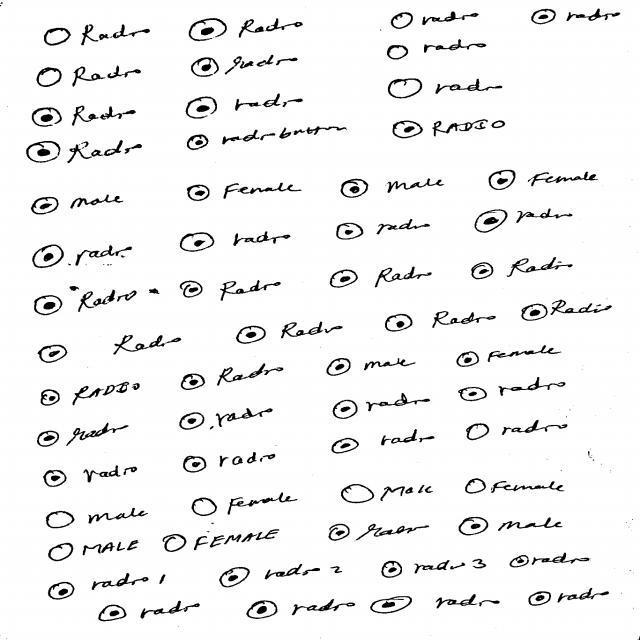radio: (187, 19, 231, 44), (32, 243, 69, 271), (33, 288, 69, 316), (25, 139, 63, 165), (370, 595, 415, 616), (217, 567, 256, 591), (473, 209, 511, 233), (43, 22, 76, 49), (31, 104, 68, 128), (186, 96, 223, 120), (36, 342, 74, 365), (96, 601, 131, 625), (46, 578, 80, 602), (388, 78, 425, 100), (383, 313, 419, 335), (177, 233, 216, 253), (234, 325, 271, 345), (458, 516, 493, 537), (245, 600, 281, 620), (34, 67, 66, 89), (330, 269, 365, 289), (334, 222, 367, 243), (30, 196, 64, 216), (341, 181, 376, 200), (341, 485, 376, 504), (191, 58, 224, 78), (330, 435, 363, 455), (48, 540, 78, 562), (46, 509, 78, 529), (161, 534, 193, 554), (489, 170, 519, 191), (333, 399, 363, 420), (191, 498, 222, 518), (459, 385, 493, 403), (392, 120, 424, 139), (178, 282, 206, 303), (521, 303, 550, 323), (44, 468, 73, 488), (327, 522, 353, 544), (179, 411, 207, 431), (389, 13, 420, 31), (327, 358, 356, 377), (381, 559, 406, 581), (180, 374, 210, 392), (42, 386, 66, 408), (530, 9, 561, 26), (38, 427, 63, 448), (470, 263, 500, 280), (456, 351, 484, 369), (465, 424, 493, 442), (186, 186, 217, 202), (385, 44, 415, 60), (182, 457, 209, 474), (464, 479, 489, 497), (185, 135, 212, 151), (528, 591, 552, 608), (510, 556, 532, 570)
